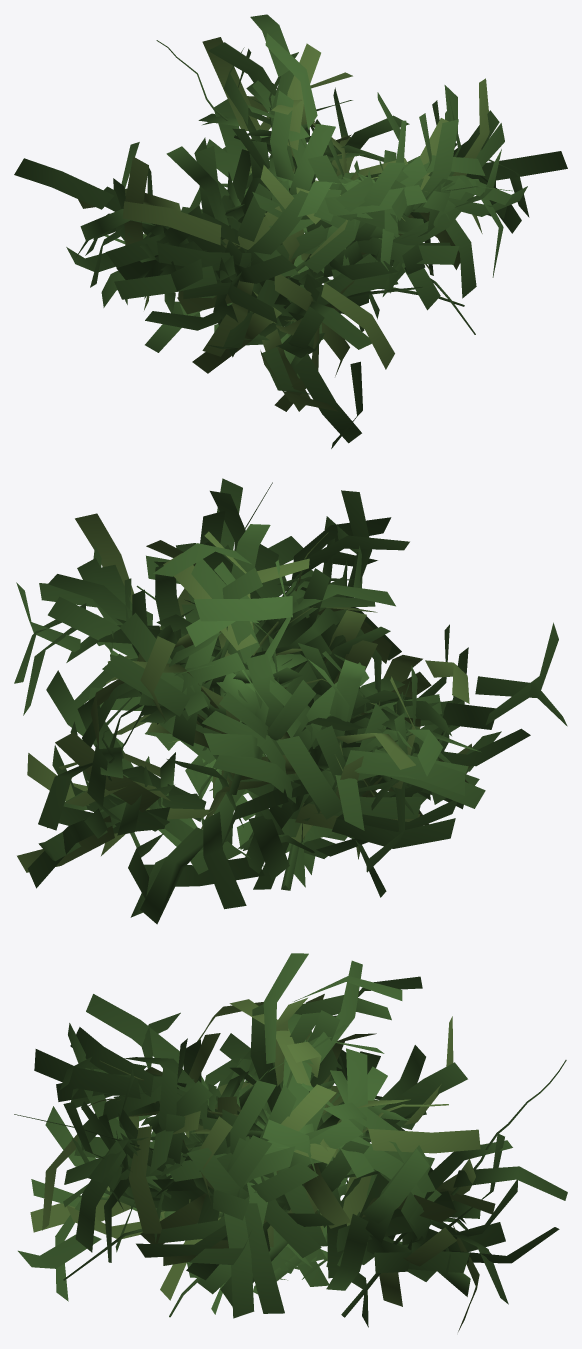
File: arbusto_2.glb
3 views of the same model, one above another, from view 1: azimuth 30°, elevation 25°; view 2: azimuth 150°, elevation 25°; view 3: azimuth 270°, elevation 25° (orthographic). The views are drawn at different scales.
Parts seen in each view (by area): view 1: arbusto_2; view 2: arbusto_2; view 3: arbusto_2.
Part boxes in pixels (x1,y1,x2,y2): arbusto_2: [14, 14, 567, 448]; arbusto_2: [14, 478, 567, 924]; arbusto_2: [14, 953, 567, 1331].
Bounding box in the file's own units: 1.27 × 0.876 × 1.2.
